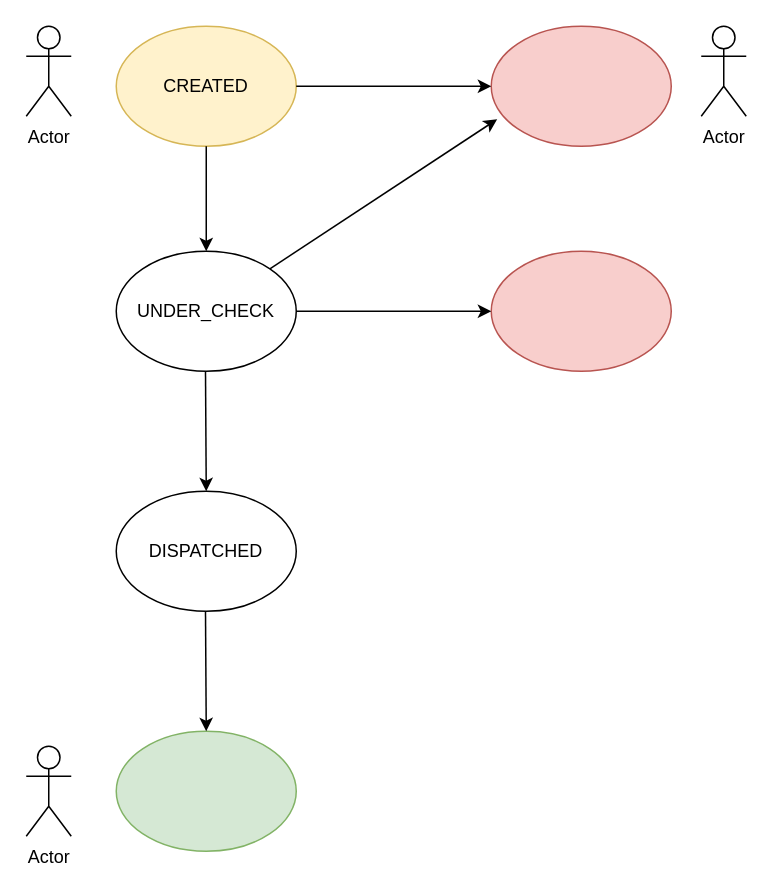
The diagram is 773 pixels wide and 894 high, and some of its shapes have lost their labels. The shapes that lost their labels are listed below. From the top down, each one's centre as x and y in pixels, then its label:
point (580, 85): CANCELLED
point (580, 310): REJECTED
point (205, 790): COMPLETED
